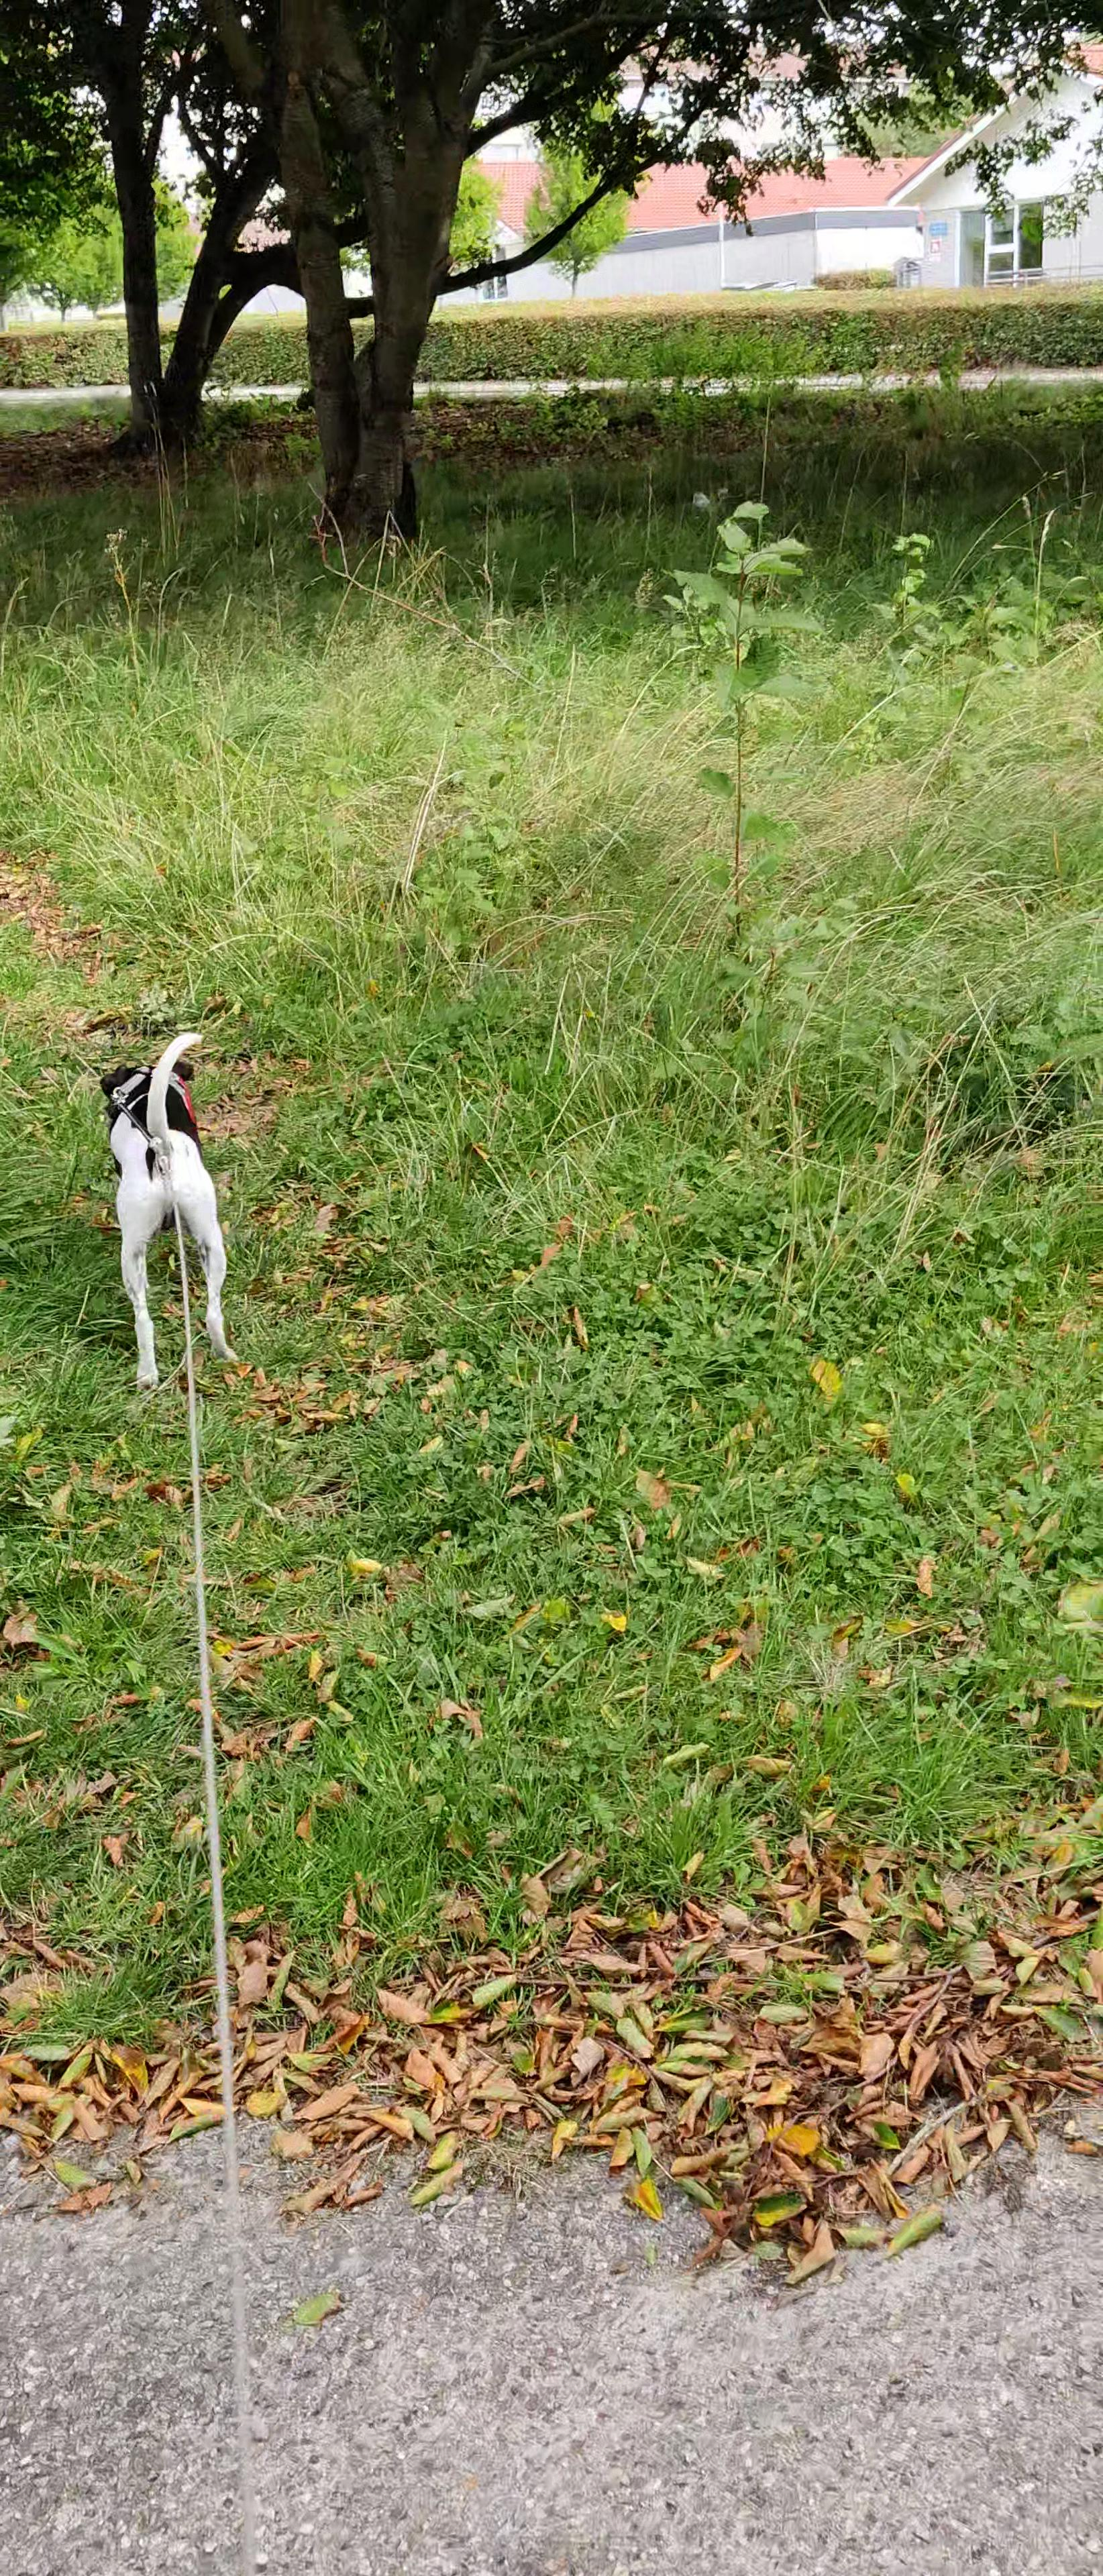Dog: (95, 1030, 263, 1401)
